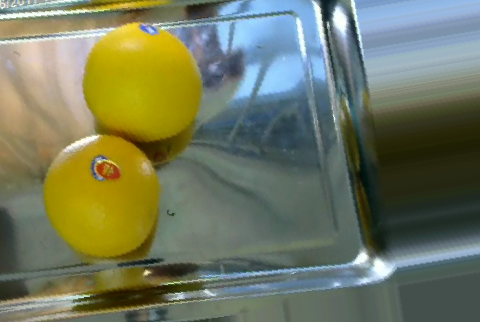Orange: (41, 134, 160, 257), (82, 21, 201, 142)
